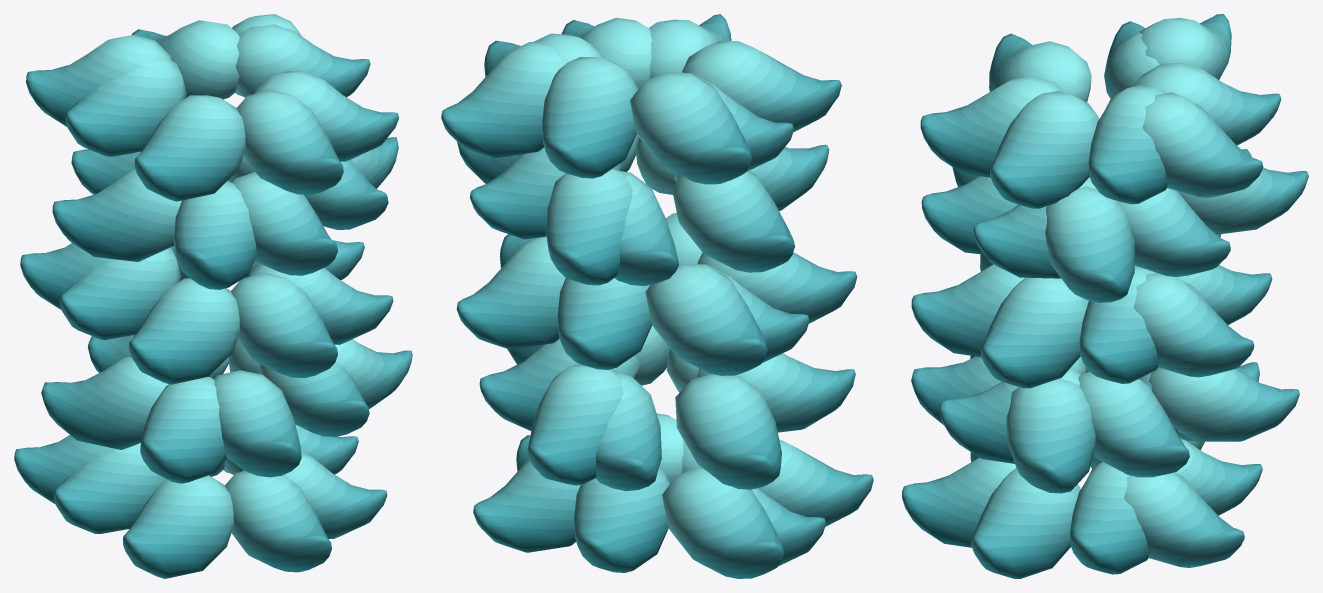
The model's file is SM_JadeVine.fbx.
The picture shows the model from 3 angles, left to right: view 1: azimuth 30°, elevation 25°; view 2: azimuth 150°, elevation 25°; view 3: azimuth 270°, elevation 25°; orthographic projection. The views are drawn at different scales.
Parts seen in each view (by area): view 1: SM_JadeVine; view 2: SM_JadeVine; view 3: SM_JadeVine.
Part boxes in pixels (x1,y1,x2,y2): SM_JadeVine: [14, 14, 412, 578]; SM_JadeVine: [441, 14, 873, 578]; SM_JadeVine: [902, 14, 1308, 578].
Bounding box in the file's own units: 65.18 × 86.78 × 65.15.
1 material, 1 textured.
